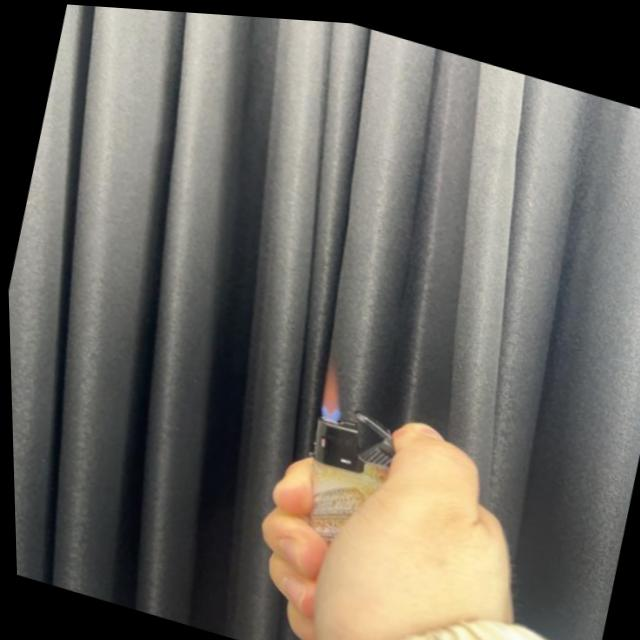Fire: (309, 350, 350, 421)
